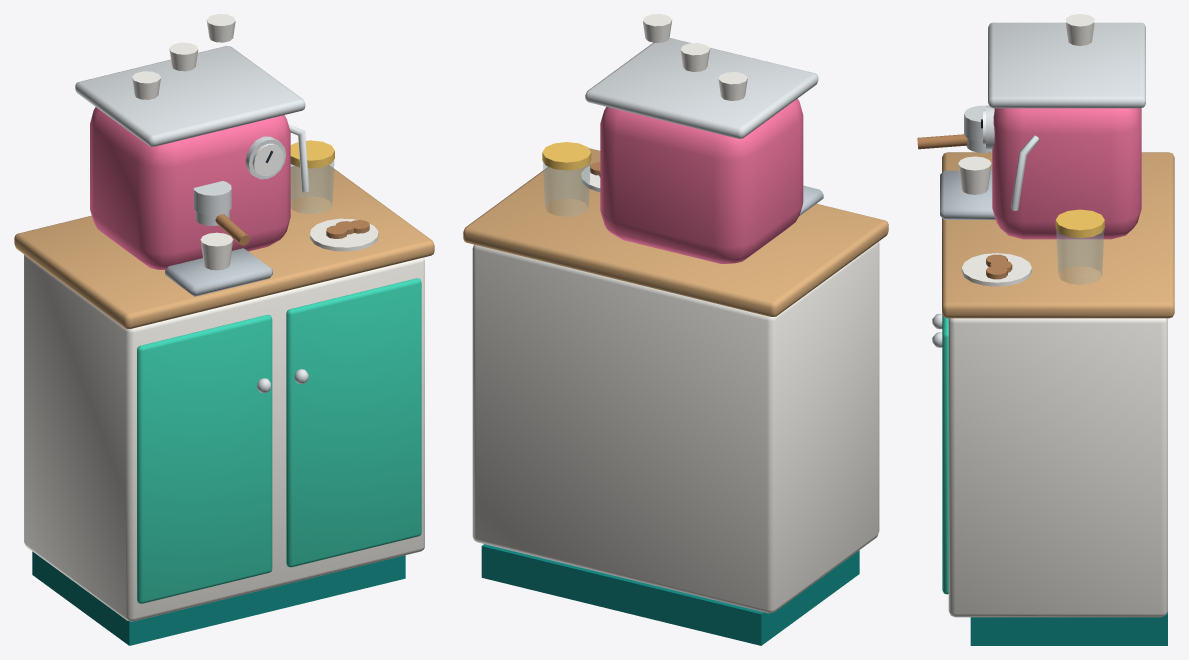
Rendered from espresso_machine.glb.
The picture shows the model from 3 angles, left to right: view 1: azimuth 30°, elevation 25°; view 2: azimuth 150°, elevation 25°; view 3: azimuth 270°, elevation 25°; orthographic projection.
Parts seen in each view (by area): view 1: EspressoMachine; view 2: EspressoMachine; view 3: EspressoMachine.
Boxes of the visible parts, left/top/right/bottom form: EspressoMachine: left=14, top=14, right=434, bottom=645; EspressoMachine: left=463, top=14, right=888, bottom=645; EspressoMachine: left=917, top=14, right=1174, bottom=645.
Size of the model in its own units: 0.83 by 1.41 by 0.5862.
